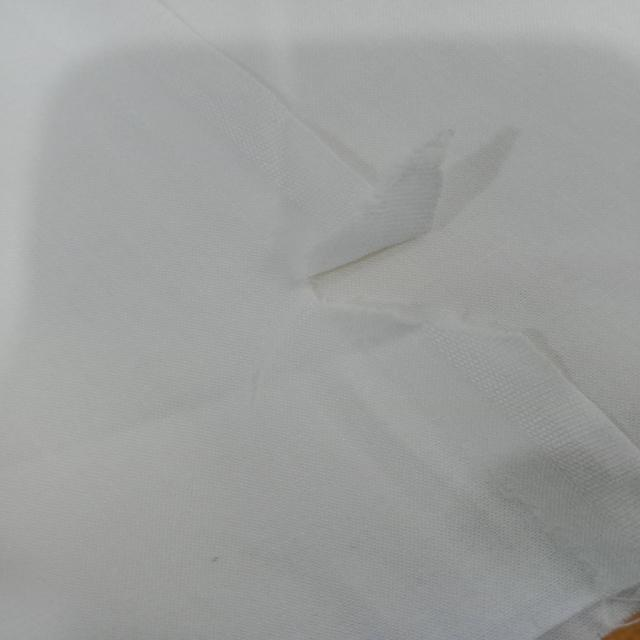cut: (308, 130, 484, 340)
